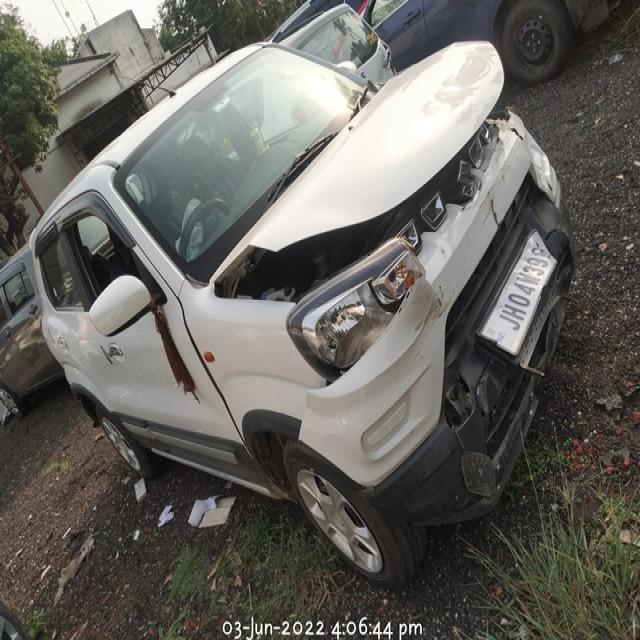damage: (482, 209, 579, 326), (289, 357, 393, 465), (493, 101, 560, 196), (461, 181, 525, 260), (440, 364, 470, 442), (408, 277, 442, 329)
